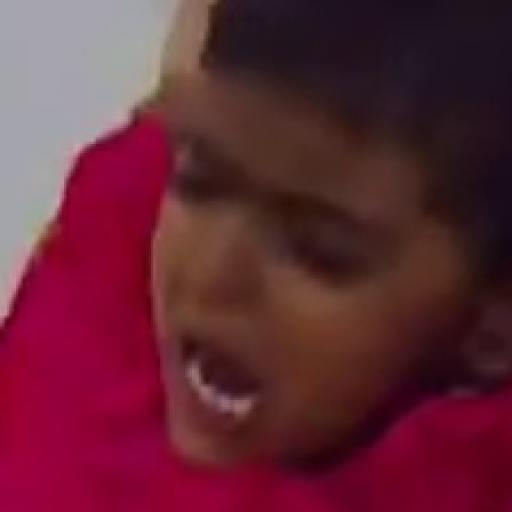Autism: (144, 21, 512, 512)
